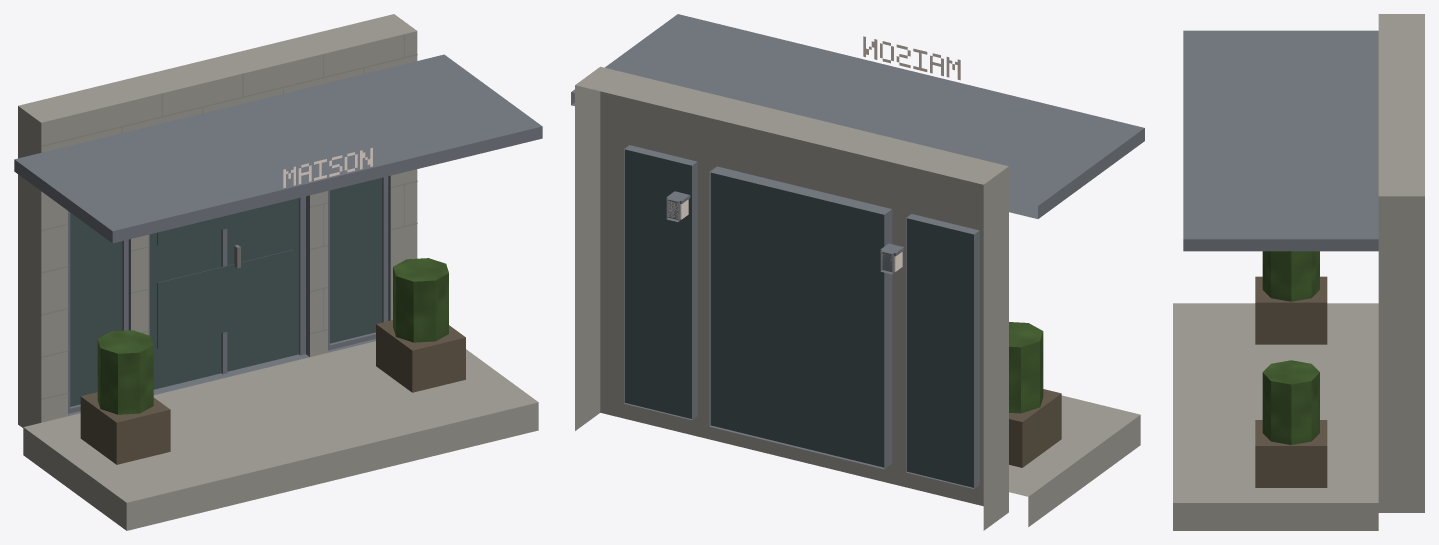
File: entrance_close.fbx
The picture shows the model from 3 angles, left to right: view 1: azimuth 30°, elevation 25°; view 2: azimuth 150°, elevation 25°; view 3: azimuth 270°, elevation 25°; orthographic projection. The views are drawn at different scales.
Parts seen in each view (by area): view 1: a2001/800/entrance_close; view 2: a2001/800/entrance_close; view 3: a2001/800/entrance_close.
Part boxes in pixels (x1,y1,x2,y2): a2001/800/entrance_close: (14,14,542,530); a2001/800/entrance_close: (571,14,1144,530); a2001/800/entrance_close: (1173,14,1424,530).
Size of the model in its own units: 4.8 by 3.5 by 2.45.
